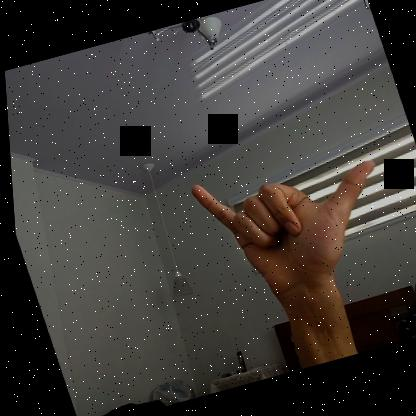Y: (181, 134, 409, 316)
